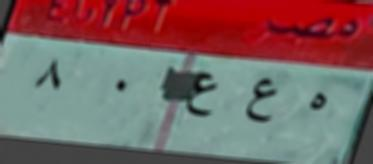0: (111, 71, 134, 106)
8: (33, 53, 64, 98)
ain: (243, 73, 282, 135), (185, 67, 217, 126)
haa: (302, 83, 330, 123)
